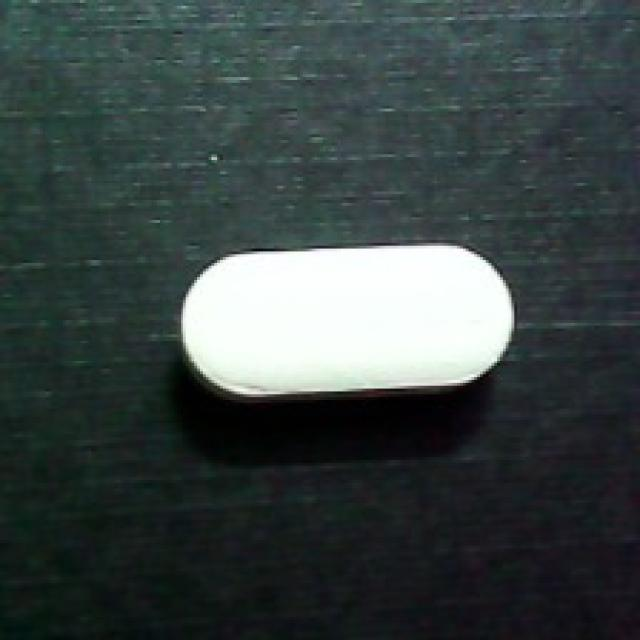no-defect: (166, 237, 531, 409)
